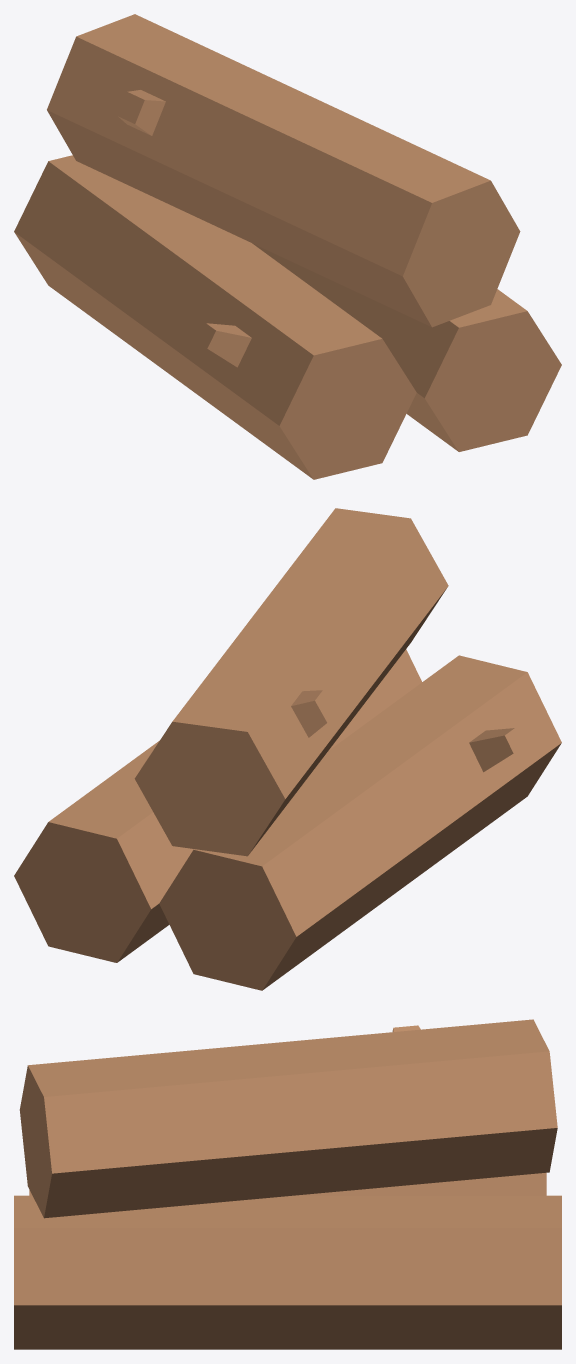
The model's file is cc0-log-stack-lod1.glb.
The picture shows the model from 3 angles, top to bottom: view 1: azimuth 30°, elevation 25°; view 2: azimuth 150°, elevation 25°; view 3: azimuth 270°, elevation 25°; orthographic projection. The views are drawn at different scales.
Visible parts, largest first — view 1: part_0; view 2: part_0; view 3: part_0.
Part boxes in pixels (bbox=[...]): part_0: bbox=[14, 14, 561, 479]; part_0: bbox=[14, 508, 561, 990]; part_0: bbox=[14, 1019, 561, 1349].
Bounding box in the file's own units: 0.4247 × 0.3464 × 0.71.
